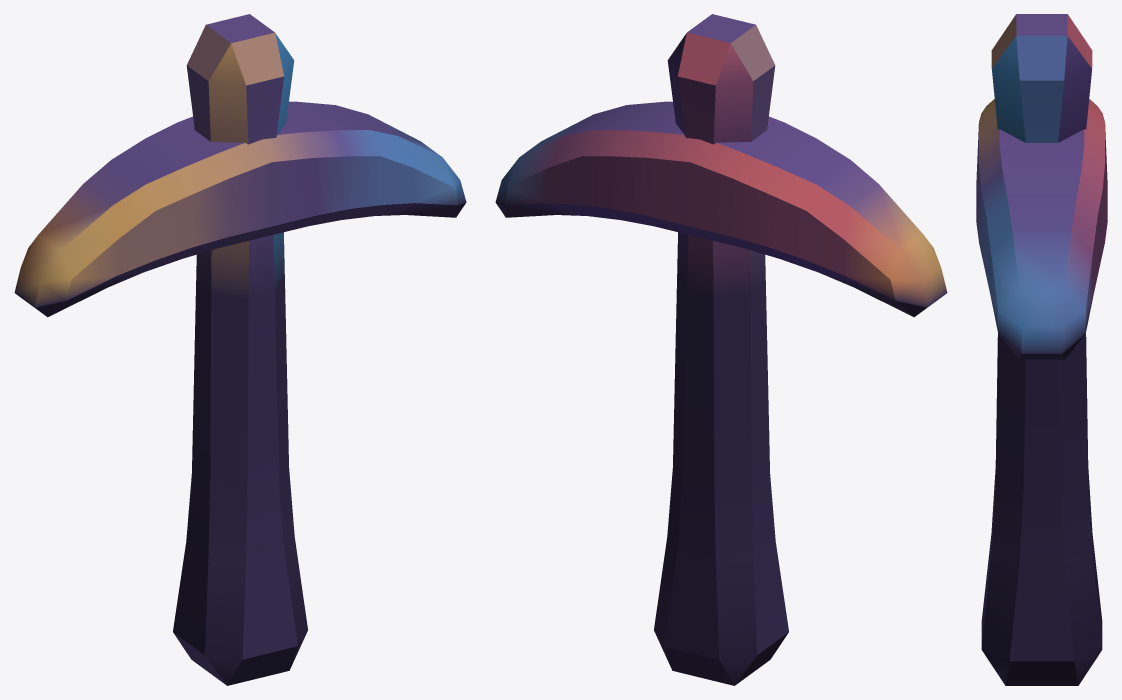
File: Fusion_Pickaxe.glb
The picture shows the model from 3 angles, left to right: view 1: azimuth 30°, elevation 25°; view 2: azimuth 150°, elevation 25°; view 3: azimuth 270°, elevation 25°; orthographic projection.
Parts seen in each view (by area): view 1: Fusion_Pickaxe; view 2: Fusion_Pickaxe; view 3: Fusion_Pickaxe.
Boxes of the visible parts, x1,y1,x2,y2 form: Fusion_Pickaxe: (14,14,466,685); Fusion_Pickaxe: (495,14,947,685); Fusion_Pickaxe: (976,14,1107,685).
Size of the model in its own units: 1.22 by 1.71 by 0.3154.
